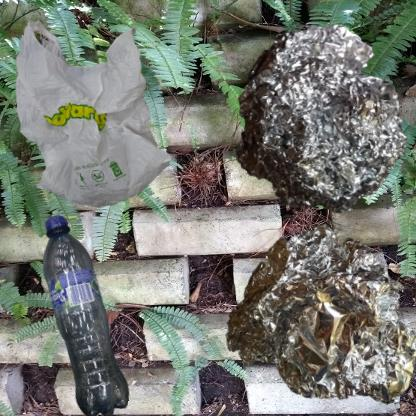aluminio: (213, 10, 416, 239), (213, 213, 416, 416)
bolsa: (10, 10, 177, 216)
botella: (10, 213, 172, 416)
